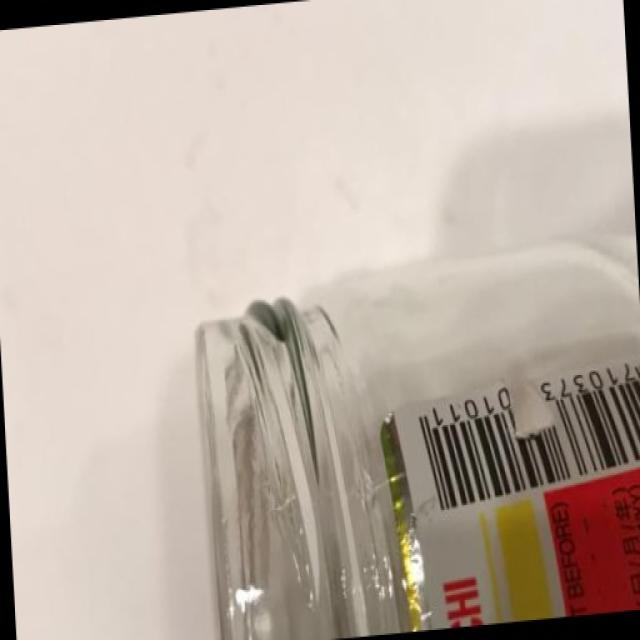vidrio: (186, 168, 634, 635)
